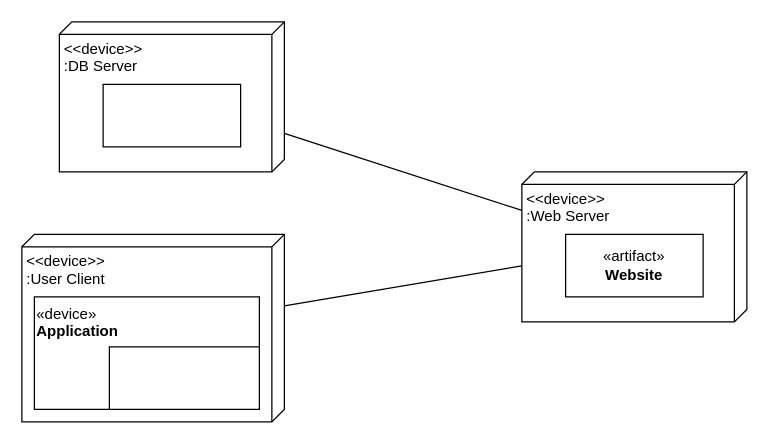
Image size: 769x444. Some labels were removed from this diagram. Here are the shapes that lost their labels. From the top down, the centre of each, then its label:
[171,115]: «artifact» CSV File
[183,377]: «artifact» HTML5
